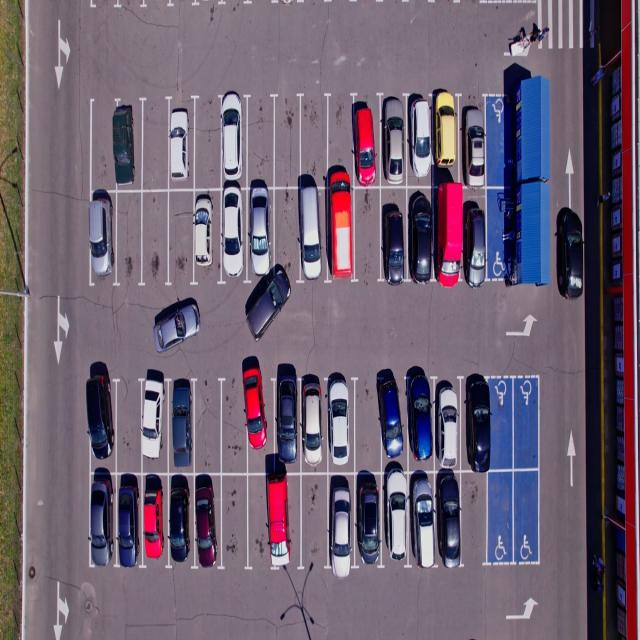space-empty: (193, 376, 225, 473), (300, 475, 332, 571), (139, 192, 171, 288), (509, 470, 541, 565), (114, 191, 146, 285), (352, 188, 384, 282), (220, 372, 250, 472), (485, 471, 516, 566), (458, 469, 488, 567), (509, 377, 540, 470), (353, 376, 383, 470), (114, 376, 144, 470), (193, 96, 224, 186), (220, 476, 250, 568), (167, 192, 196, 287), (246, 95, 276, 183), (272, 95, 302, 182), (488, 376, 516, 469), (273, 187, 301, 279), (141, 98, 170, 186), (247, 474, 274, 568), (299, 95, 329, 179), (87, 101, 114, 190), (328, 96, 356, 180)
space-occupied: (267, 474, 304, 571), (244, 369, 278, 471), (327, 474, 361, 574), (378, 469, 412, 568), (352, 471, 385, 572), (409, 472, 442, 571), (432, 185, 464, 287), (272, 370, 304, 470), (296, 186, 329, 281), (192, 473, 224, 569), (85, 373, 116, 472), (113, 101, 147, 191), (326, 376, 358, 471), (247, 189, 280, 281), (168, 376, 200, 470), (217, 188, 249, 282), (376, 373, 407, 470), (167, 474, 198, 571), (138, 378, 170, 471), (378, 186, 409, 282), (407, 188, 437, 287), (434, 470, 464, 569), (465, 188, 495, 287), (296, 374, 326, 472), (111, 472, 141, 569), (193, 189, 224, 282), (406, 94, 438, 184), (138, 472, 168, 568), (464, 377, 494, 472), (328, 187, 358, 282), (168, 99, 200, 188), (86, 192, 116, 286), (218, 94, 249, 184), (406, 374, 436, 467), (434, 378, 465, 468), (460, 95, 490, 187), (380, 95, 410, 186), (431, 95, 462, 183), (352, 96, 382, 186), (88, 473, 115, 570)
